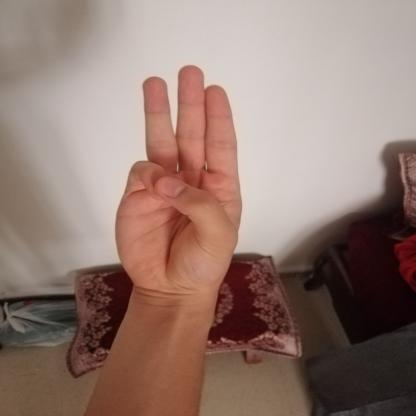THA: (95, 55, 261, 303)
